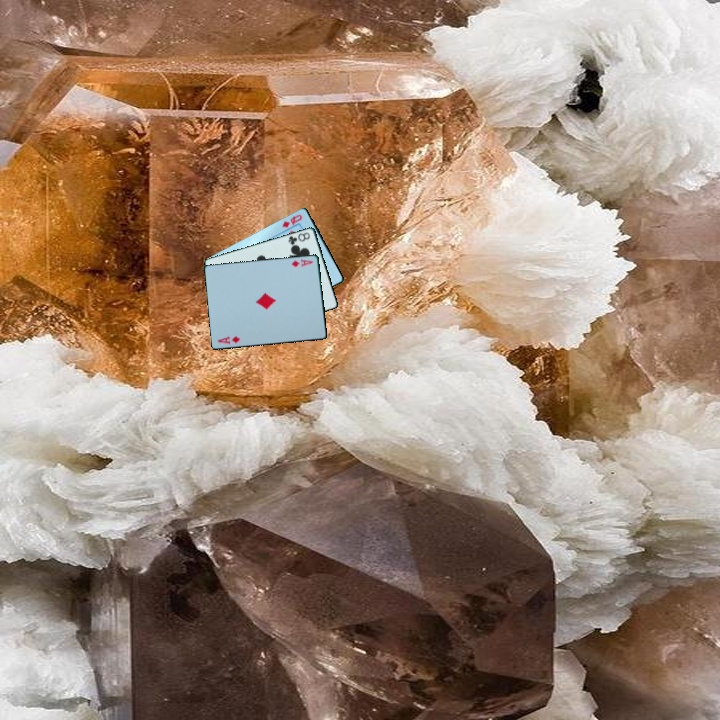8c: (285, 229, 313, 247)
Ad: (214, 332, 243, 347), (288, 255, 316, 270)
Qd: (279, 211, 305, 230)
